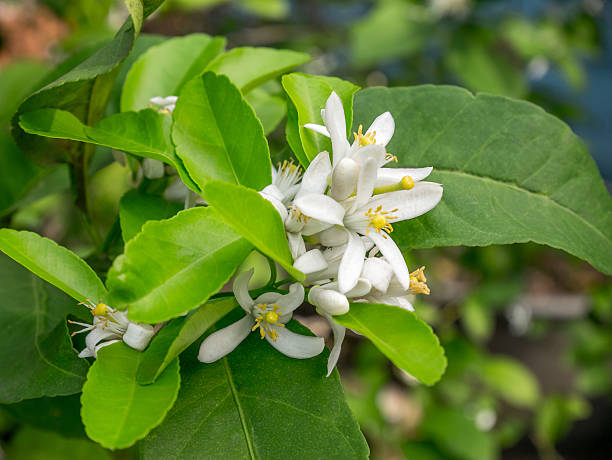flower: (292, 160, 450, 287), (196, 259, 326, 376), (312, 85, 437, 191), (64, 285, 161, 363)
